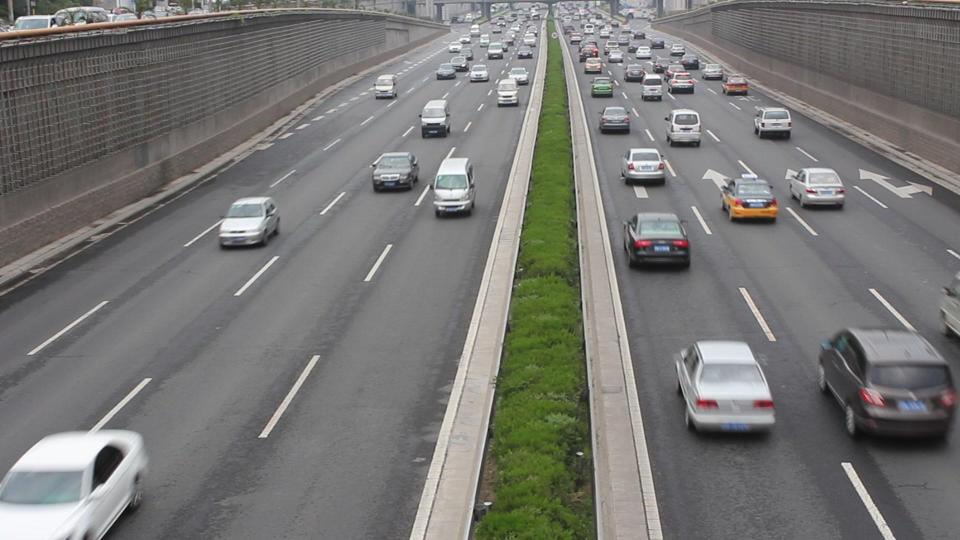Car: (818, 326, 943, 442), (13, 433, 143, 528), (671, 339, 771, 437), (620, 212, 688, 267), (218, 197, 277, 250), (718, 178, 774, 221), (789, 168, 842, 211), (370, 153, 416, 190), (620, 147, 663, 186), (754, 108, 789, 139), (596, 105, 627, 136)
Minivan: (432, 157, 475, 217), (664, 108, 699, 147), (419, 98, 450, 139)
